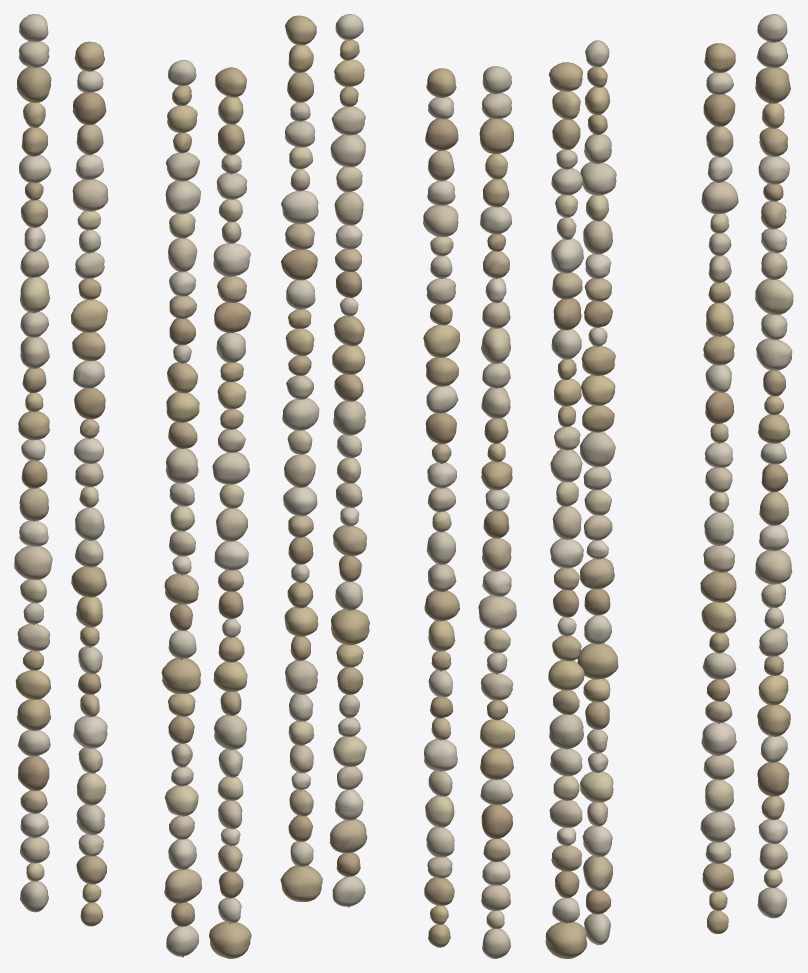
The model's file is middle.glb.
3 renders of one model, left to right at view 1: azimuth 30°, elevation 25°; view 2: azimuth 210°, elevation 25°; view 3: azimuth 270°, elevation 25°, orthographic.
Parts seen in each view (by area): view 1: middle; view 2: middle; view 3: middle.
Boxes of the visible parts, bbox=[...] form: middle: bbox=[14, 14, 251, 958]; middle: bbox=[280, 14, 516, 958]; middle: bbox=[545, 14, 793, 958].
Bounding box in the file's own units: 0.63 × 4.2 × 1.04.
